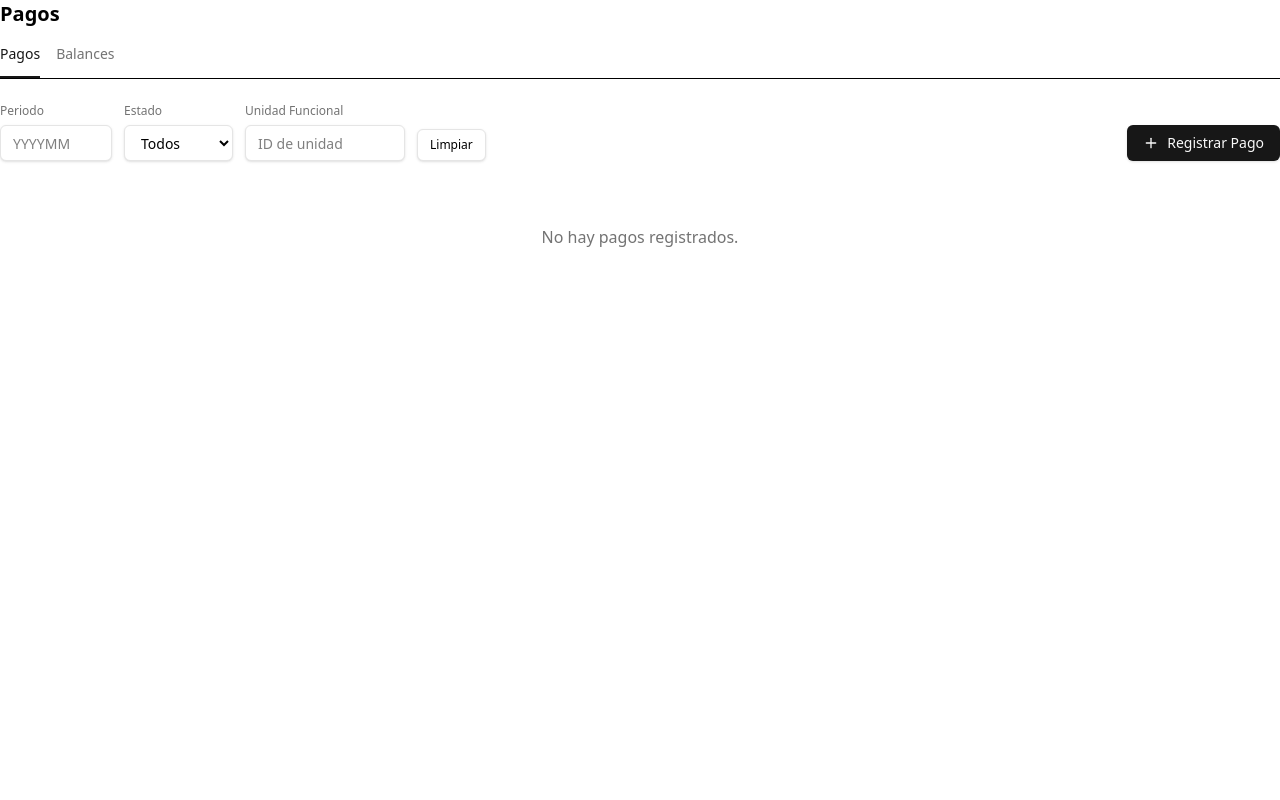
Scenario: PaymentListPage › [@happy-path] opens create modal on Registrar Pago click
Step 1. Click the button "Registrar Pago" → [1204, 143], box [1127,125,1279,161]
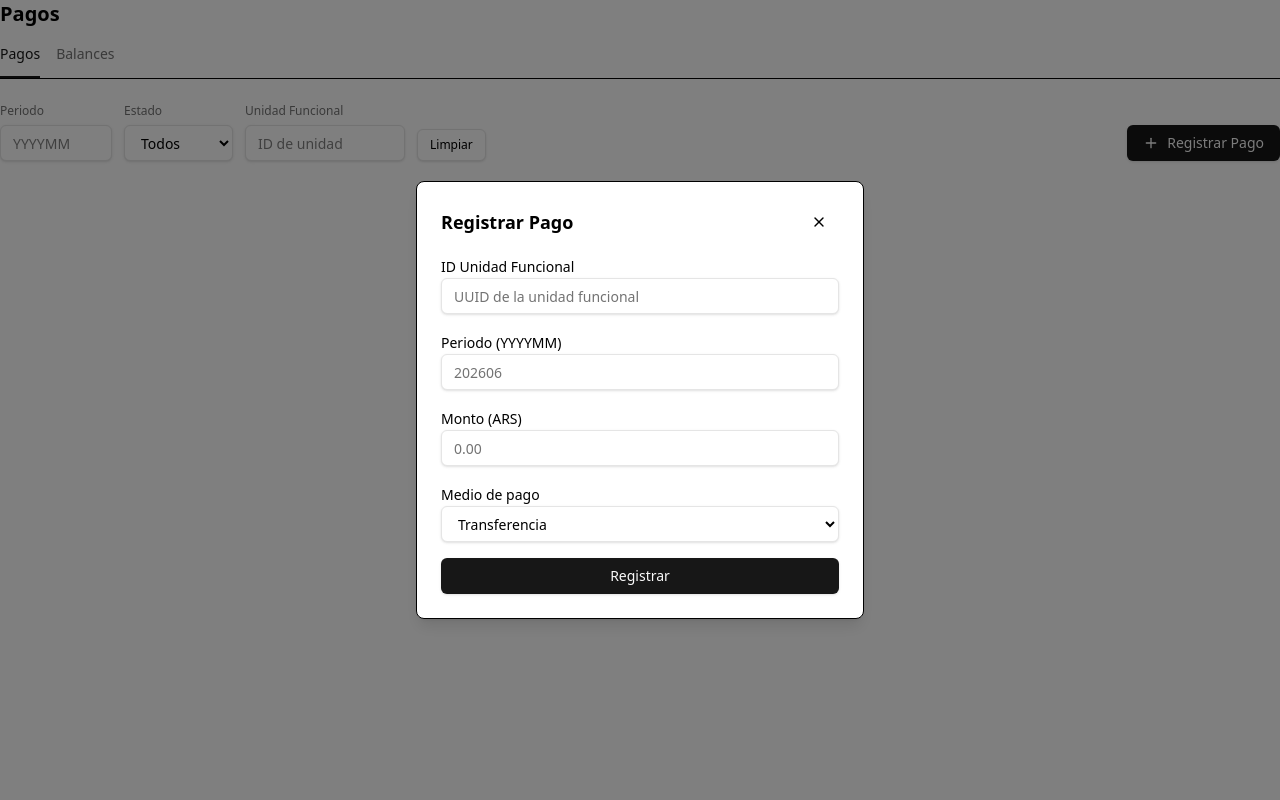
Result: the heading "Registrar Pago" is shown at [441,208,573,236]
